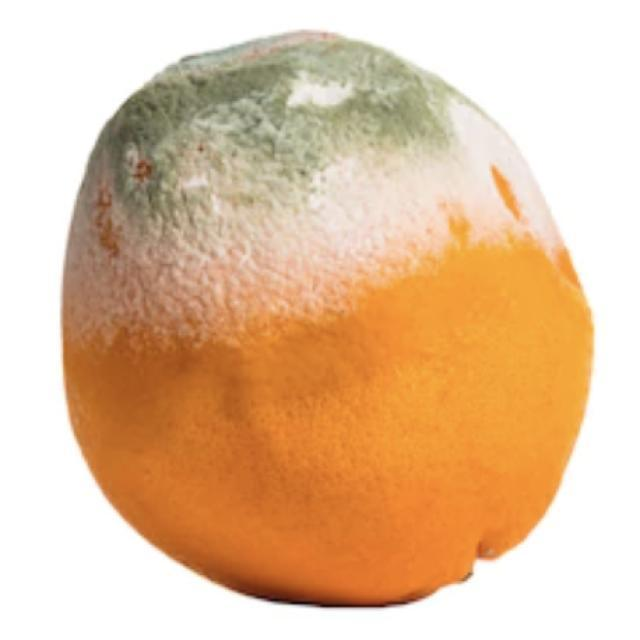sedikit-busuk: (63, 33, 593, 603)
